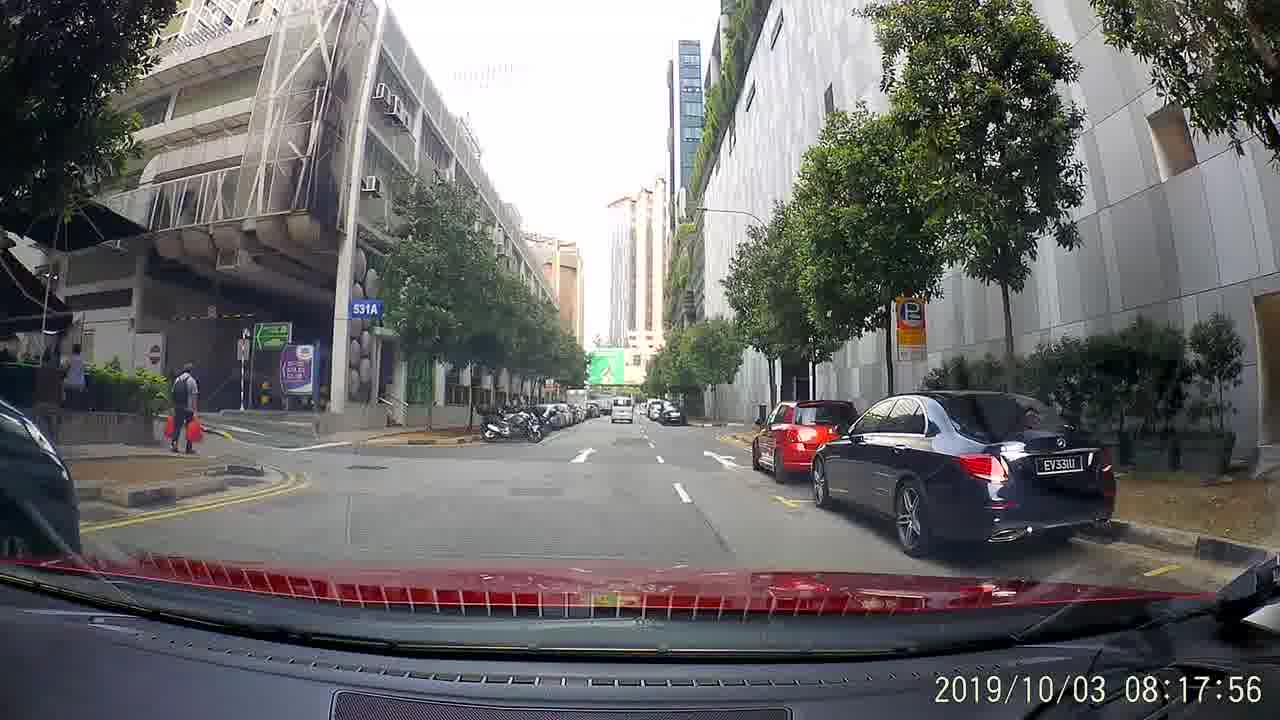car: (808, 388, 1108, 561), (749, 396, 866, 480), (660, 401, 686, 429)
